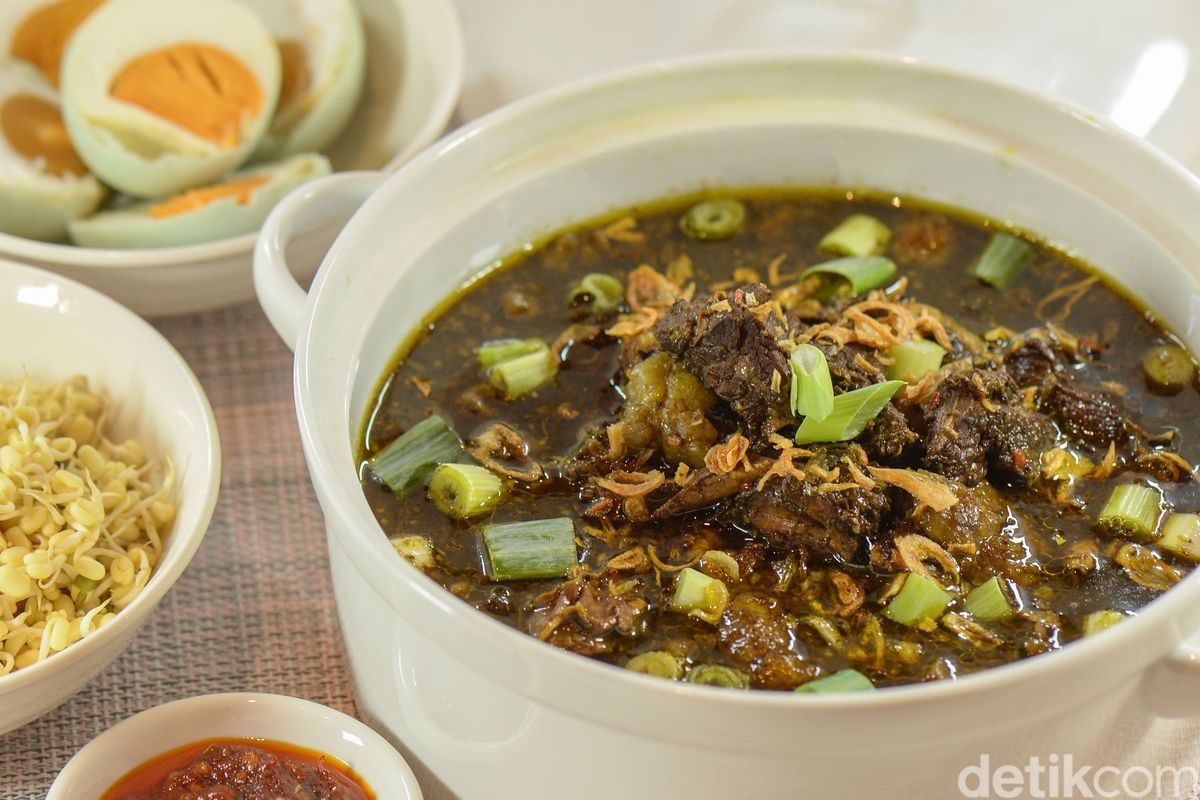rawon: (306, 176, 1196, 638)
